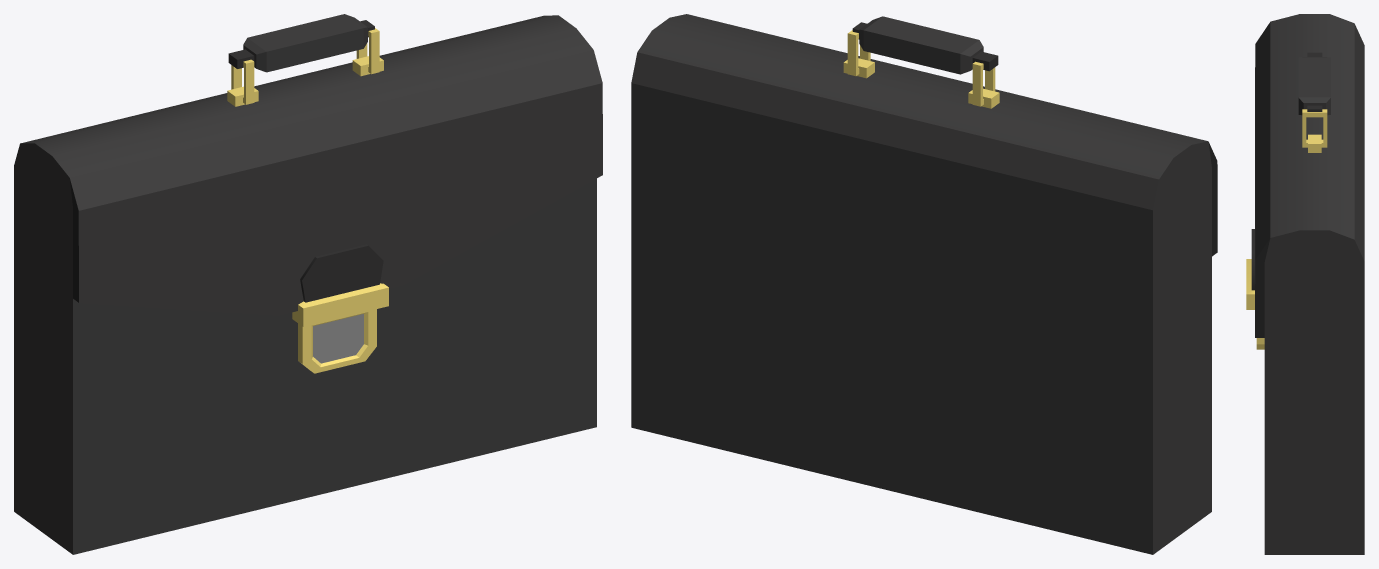
File: mesh_suitcase.fbx
3 renders of one model, left to right at view 1: azimuth 30°, elevation 25°; view 2: azimuth 150°, elevation 25°; view 3: azimuth 270°, elevation 25°, orthographic. The views are drawn at different scales.
Visible parts, largest first — view 1: mesh_briefcase_01; view 2: mesh_briefcase_01; view 3: mesh_briefcase_01.
Part boxes in pixels (left/top/right/bottom): mesh_briefcase_01: left=14, top=14, right=602, bottom=554; mesh_briefcase_01: left=631, top=14, right=1217, bottom=554; mesh_briefcase_01: left=1246, top=14, right=1364, bottom=554.
Size of the model in its own units: 13.49 by 10.74 by 3.13.
